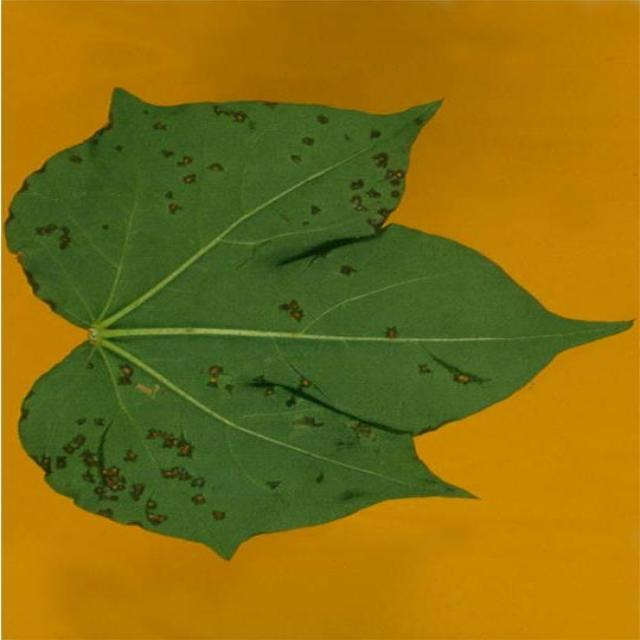Bacterial Blight: (53, 333, 364, 535)
